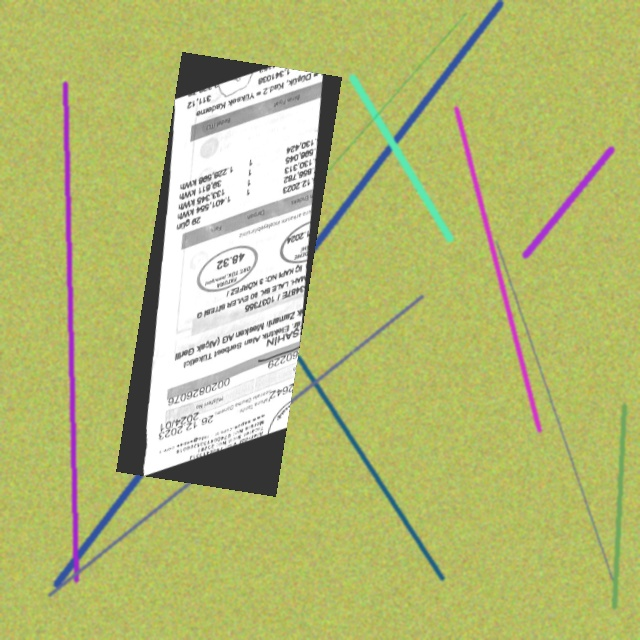electricity-bill: (115, 52, 341, 496)
